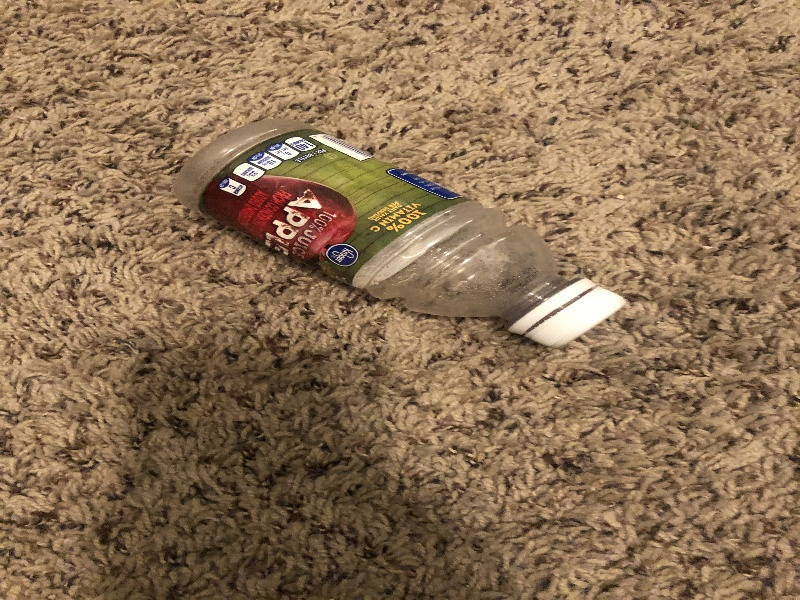plastic: (165, 114, 631, 357)
